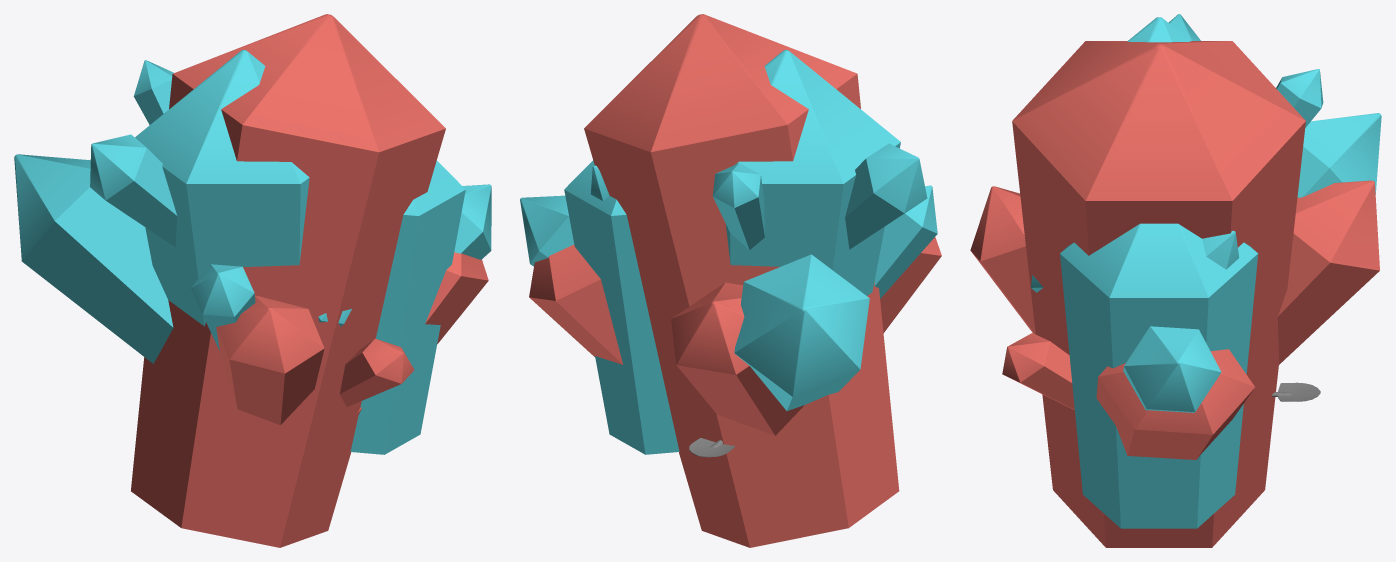
Rendered from gemandkurek.fbx.
The picture shows the model from 3 angles, left to right: view 1: azimuth 30°, elevation 25°; view 2: azimuth 150°, elevation 25°; view 3: azimuth 270°, elevation 25°; orthographic projection. The views are drawn at different scales.
Parts seen in each view (by area): view 1: Cylinder, Cylinder.001; view 2: Cylinder, Cylinder.001, Plane.001; view 3: Cylinder, Cylinder.001, Plane.001.
Part boxes in pixels (left/top/right/bottom): Cylinder: left=131, top=14, right=488, bottom=547; Cylinder.001: left=14, top=50, right=491, bottom=454; Cylinder: left=529, top=14, right=941, bottom=547; Cylinder.001: left=520, top=50, right=937, bottom=454; Plane.001: left=689, top=438, right=734, bottom=457; Cylinder: left=970, top=41, right=1379, bottom=547; Cylinder.001: left=1031, top=14, right=1381, bottom=528; Plane.001: left=1272, top=382, right=1320, bottom=401.
Bounding box in the file's own units: 4.33 × 5.02 × 3.63.
